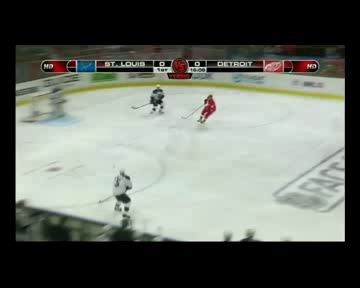normal: (102, 162, 141, 222), (193, 91, 224, 130), (146, 81, 170, 117)
